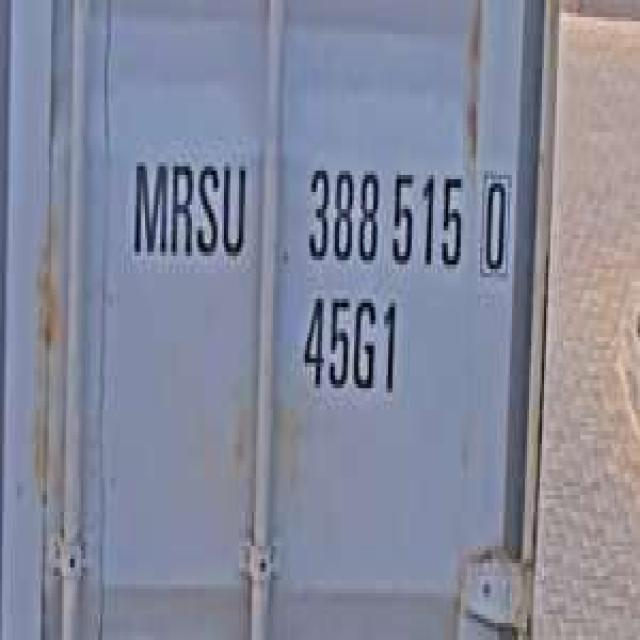dv: (476, 162, 512, 282)
owner: (126, 141, 249, 273)
serial: (299, 149, 467, 273)
size: (294, 282, 404, 405)
